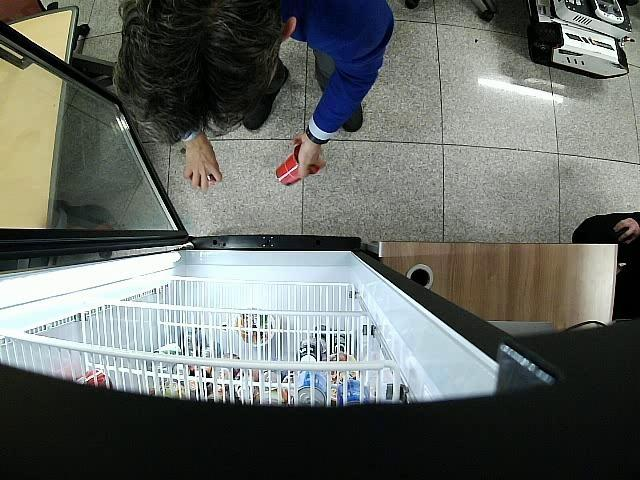02_shinRamen_S: (275, 142, 317, 186)
